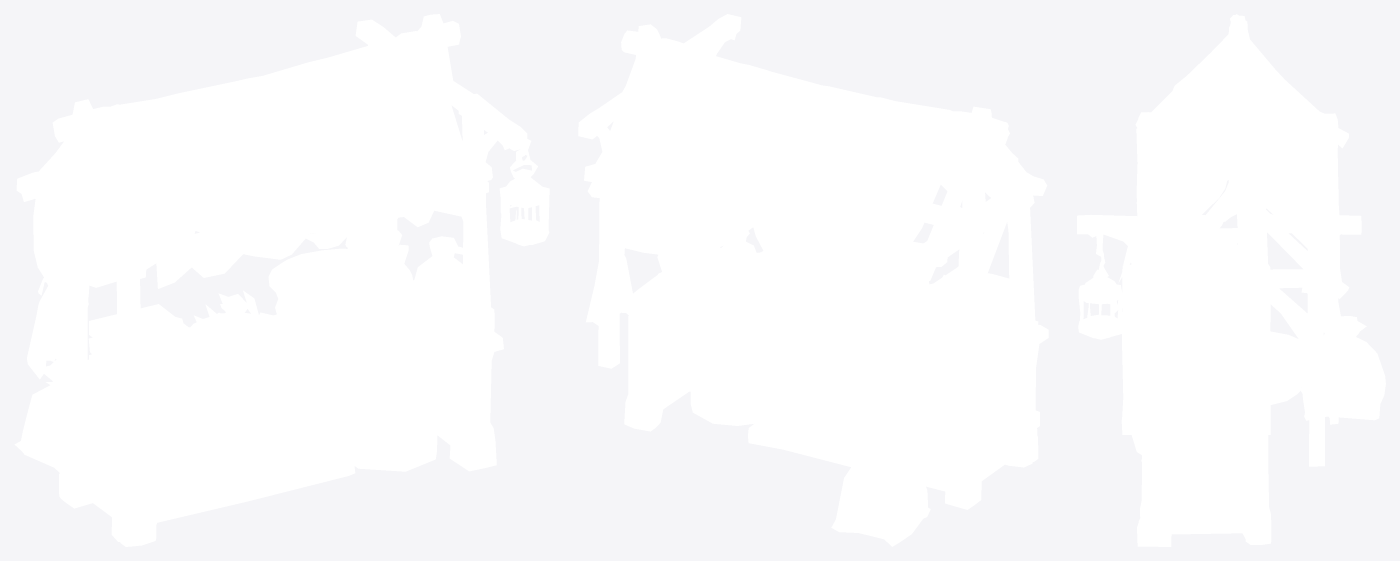
The model's file is market_stall.glb.
The picture shows the model from 3 angles, left to right: view 1: azimuth 30°, elevation 25°; view 2: azimuth 150°, elevation 25°; view 3: azimuth 270°, elevation 25°; orthographic projection. The views are drawn at different scales.
Visible parts, largest first — view 1: market_stall; view 2: market_stall; view 3: market_stall.
Part boxes in pixels (box(x1,y1,x2,y2)): market_stall: box(14, 14, 549, 546); market_stall: box(578, 14, 1048, 546); market_stall: box(1077, 14, 1385, 546).
Bounding box in the file's own units: 3.41 × 3.21 × 2.42.
1 material, 1 textured.
